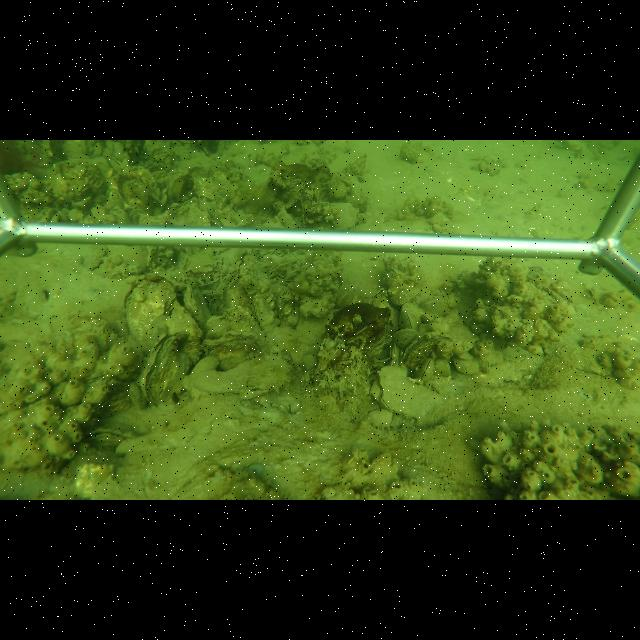Oyster-Closed: (375, 366, 452, 428), (187, 354, 294, 395), (124, 276, 174, 350), (142, 333, 190, 406), (168, 299, 205, 360), (402, 334, 448, 368), (308, 201, 360, 229), (204, 332, 261, 354), (248, 288, 276, 332), (183, 279, 210, 322), (391, 287, 422, 308), (89, 393, 112, 417), (400, 304, 418, 328), (419, 356, 435, 380)
Oyster-Open: (84, 425, 132, 446)
